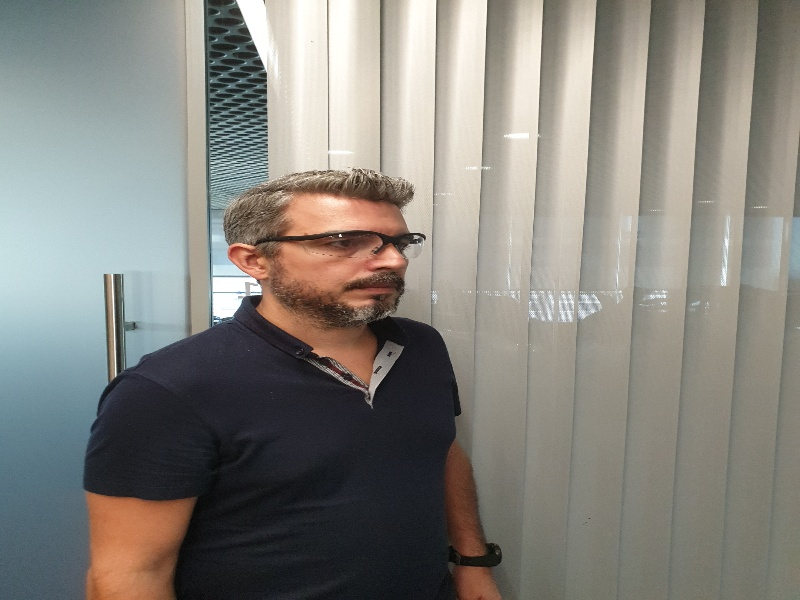Gozluk: (261, 230, 427, 255)
